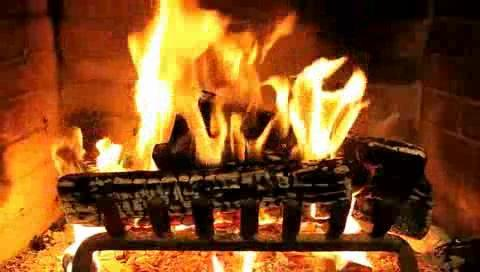fire: (17, 0, 480, 185)
